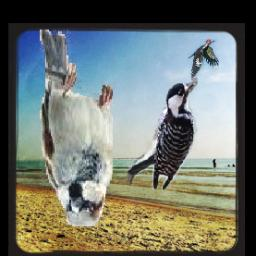Sparrow: (41, 30, 114, 227)
Woodpecker: (128, 79, 199, 190), (188, 39, 219, 78)
